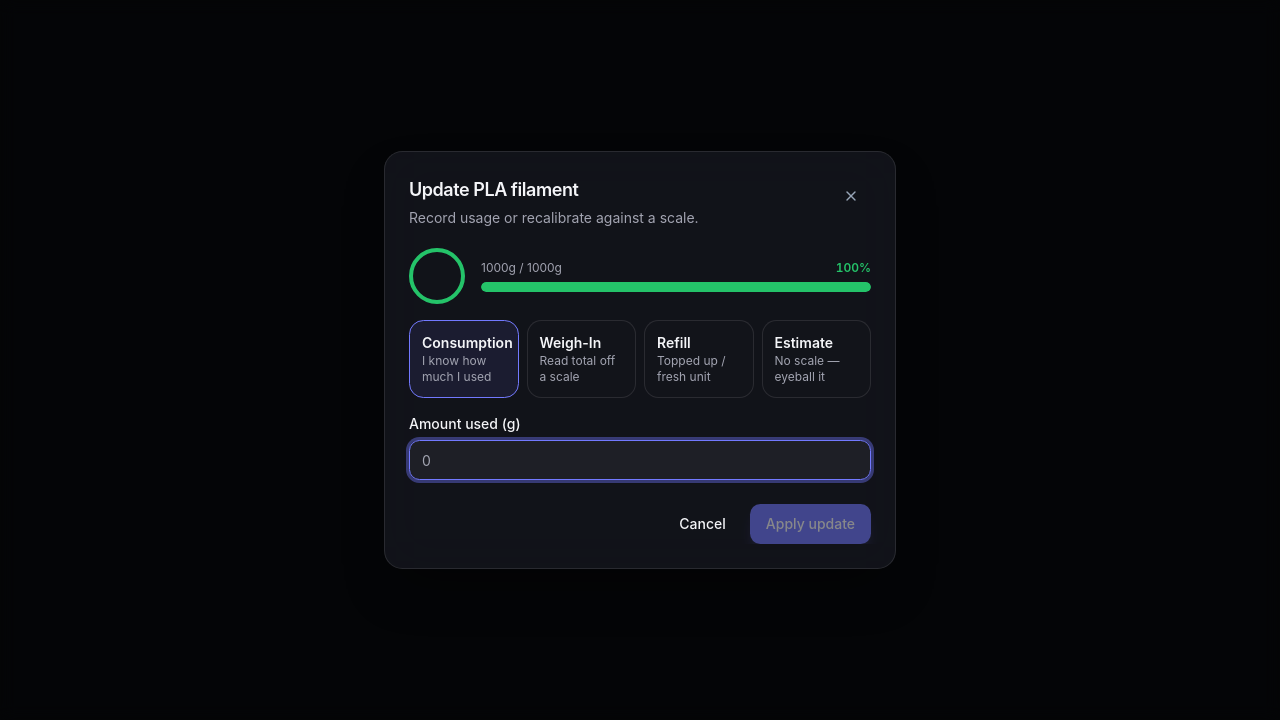
Test: GaugeAdjustDialog — Estimate quick-set (issue #95) › keeps Apply disabled when the chosen level matches the current fill
Click the button with test id "gauge-mode-estimate" at (816, 359), box [762,320,871,398]
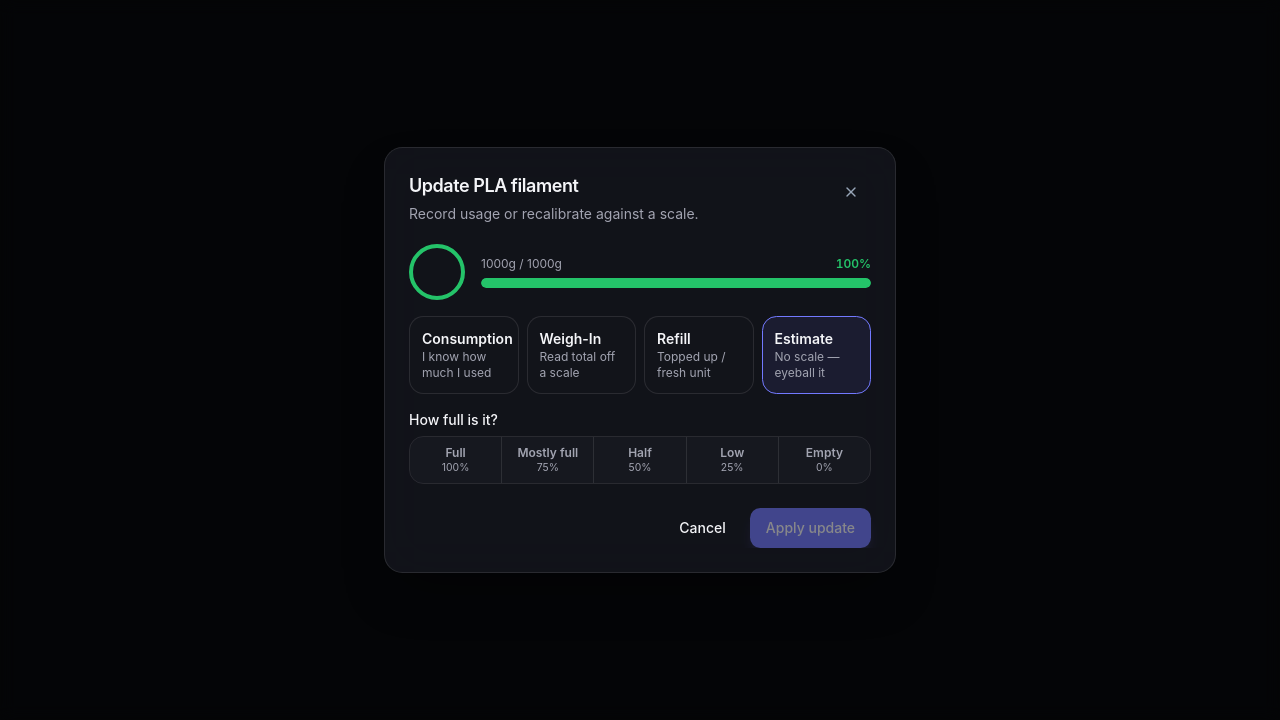
// "Half" (50% → 500 g) is a real change, so Apply enables…
Click the radio button with test id "gauge-level-half" at (640, 460), box [594,437,687,483]
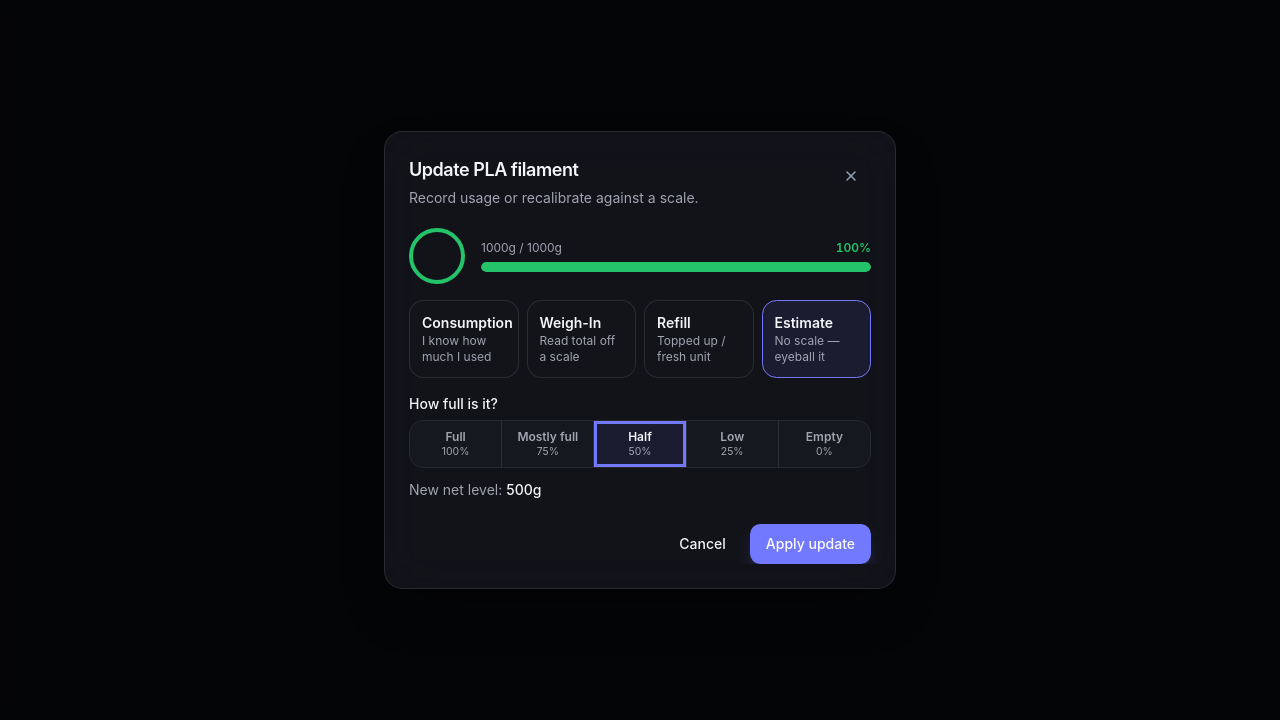
Now the button with test id "gauge-apply" is enabled, box [750,524,871,564]
// …but "Full" (100% → 1000 g) equals the current net, a no-op, so Apply disables.
Click the radio button with test id "gauge-level-full" at (456, 444), box [410,421,502,467]
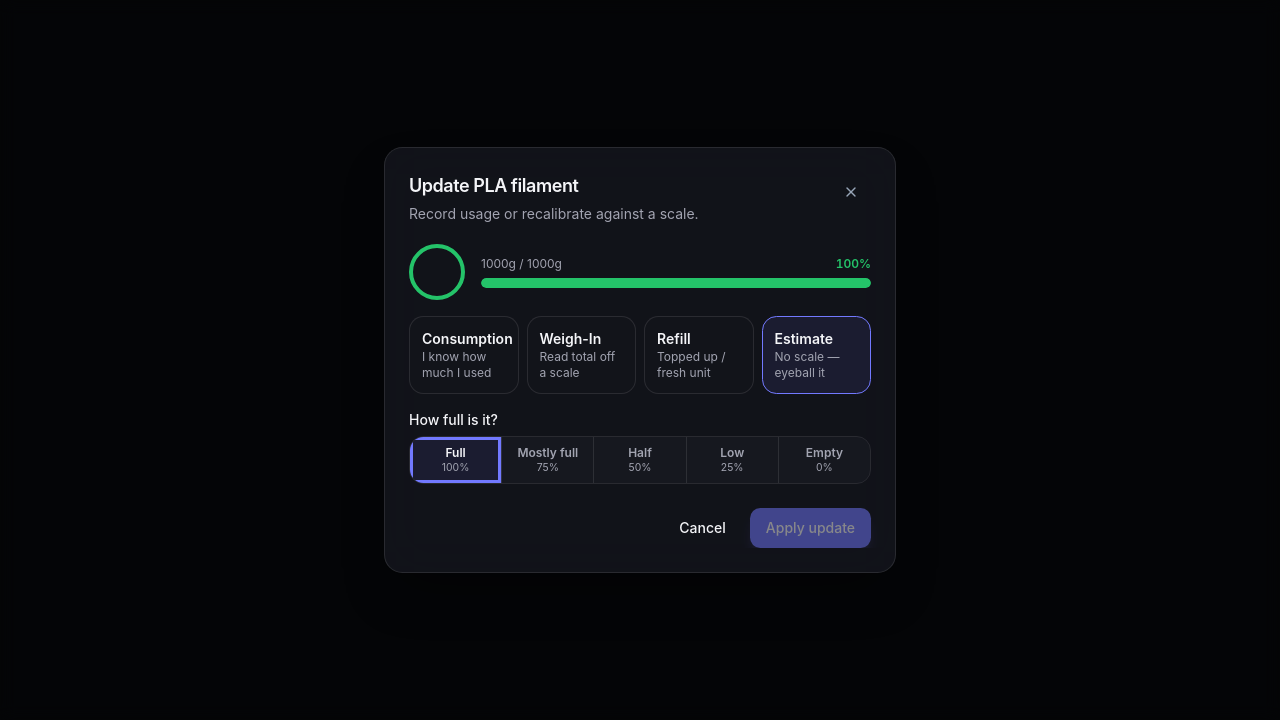
Now the button with test id "gauge-apply" is disabled, box [750,508,871,548]
